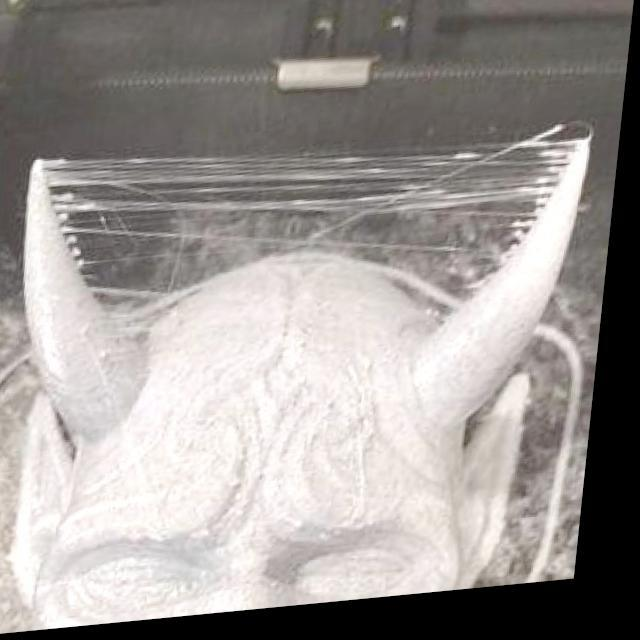stringing: (428, 154, 566, 226), (146, 149, 253, 222), (50, 152, 154, 226), (330, 152, 429, 225), (254, 156, 348, 230)
